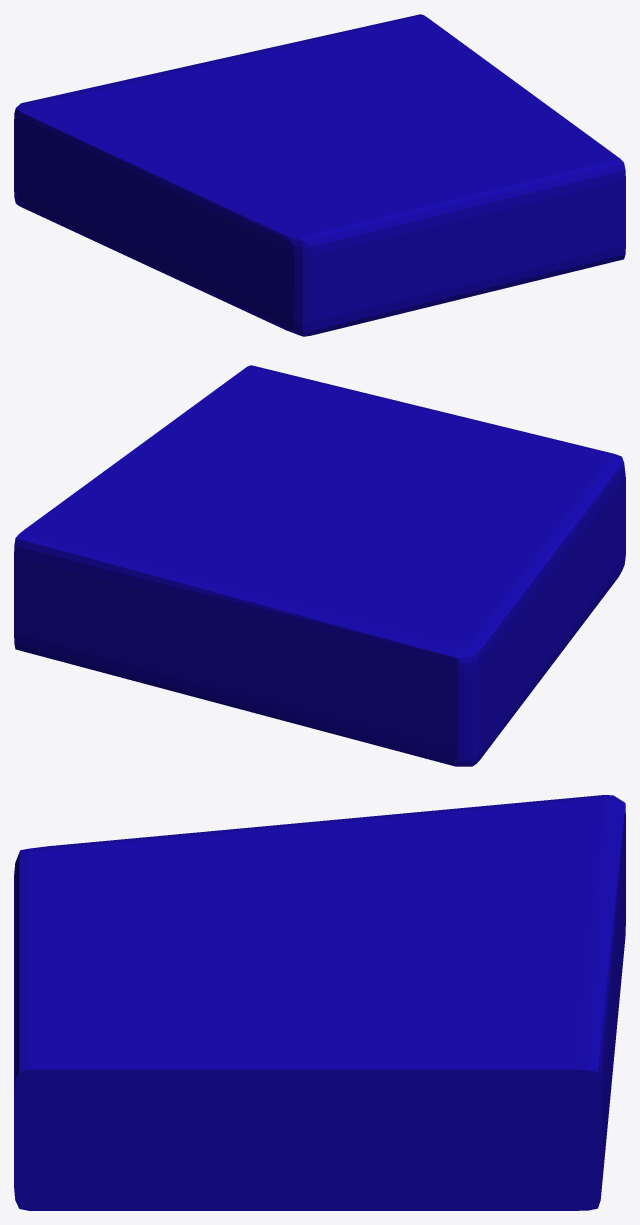
Rendered from right_hip_pitch_link_part_5.obj.
3 views of the same model, one above another, from view 1: azimuth 30°, elevation 25°; view 2: azimuth 150°, elevation 25°; view 3: azimuth 270°, elevation 25° (orthographic). The views are drawn at different scales.
Size of the model in its own units: 0.0734 by 0.0173 by 0.0681.
